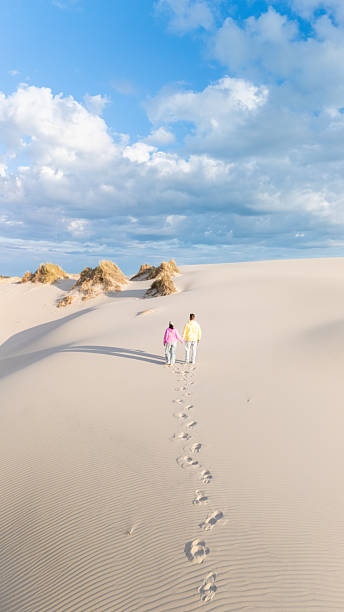human_footprint: (184, 538, 209, 562), (199, 572, 216, 601), (200, 510, 223, 530), (176, 455, 199, 467), (192, 490, 208, 504), (201, 469, 212, 483), (173, 410, 188, 420), (172, 432, 190, 440), (190, 442, 201, 453), (186, 421, 196, 428)
